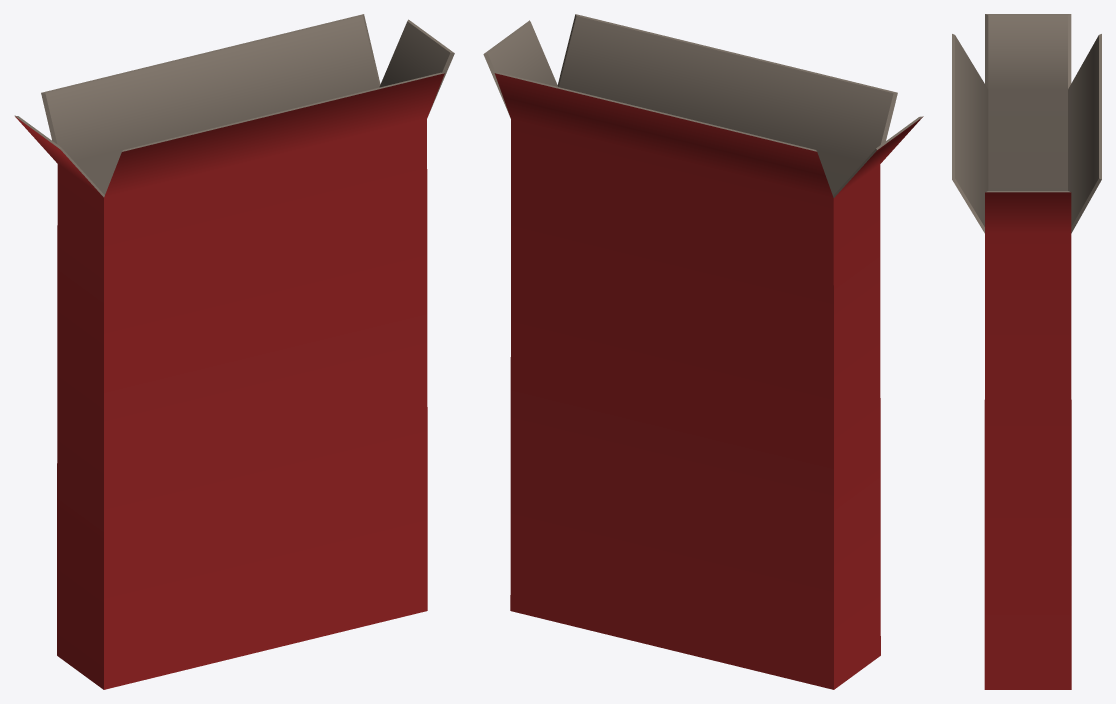
Rendered from Caja_de_Cereal_Low.fbx.
3 views of the same model, side by side, from view 1: azimuth 30°, elevation 25°; view 2: azimuth 150°, elevation 25°; view 3: azimuth 270°, elevation 25° (orthographic). The views are drawn at different scales.
Visible parts, largest first — view 1: pCube1; view 2: pCube1; view 3: pCube1.
Part boxes in pixels (x1=…): pCube1: x1=14, y1=14, x2=454, y2=689; pCube1: x1=483, y1=14, x2=923, y2=689; pCube1: x1=952, y1=14, x2=1101, y2=689.
Size of the model in its own units: 21.12 by 28.18 by 7.5.
